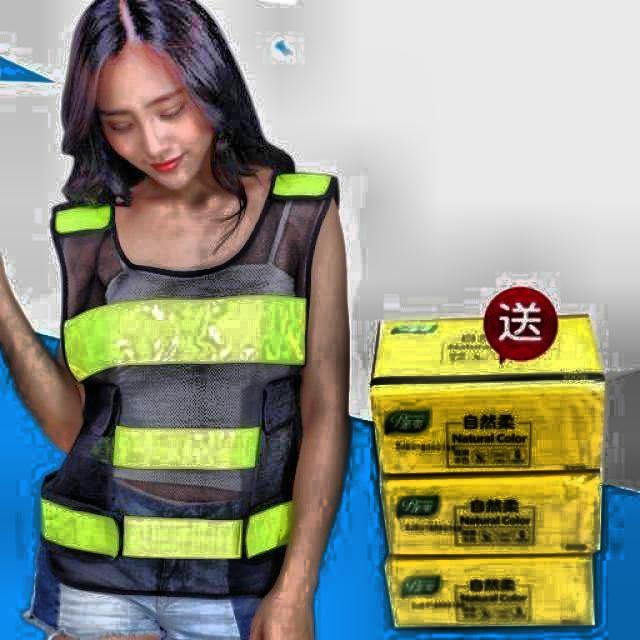safety_jacket: (47, 180, 332, 576)
